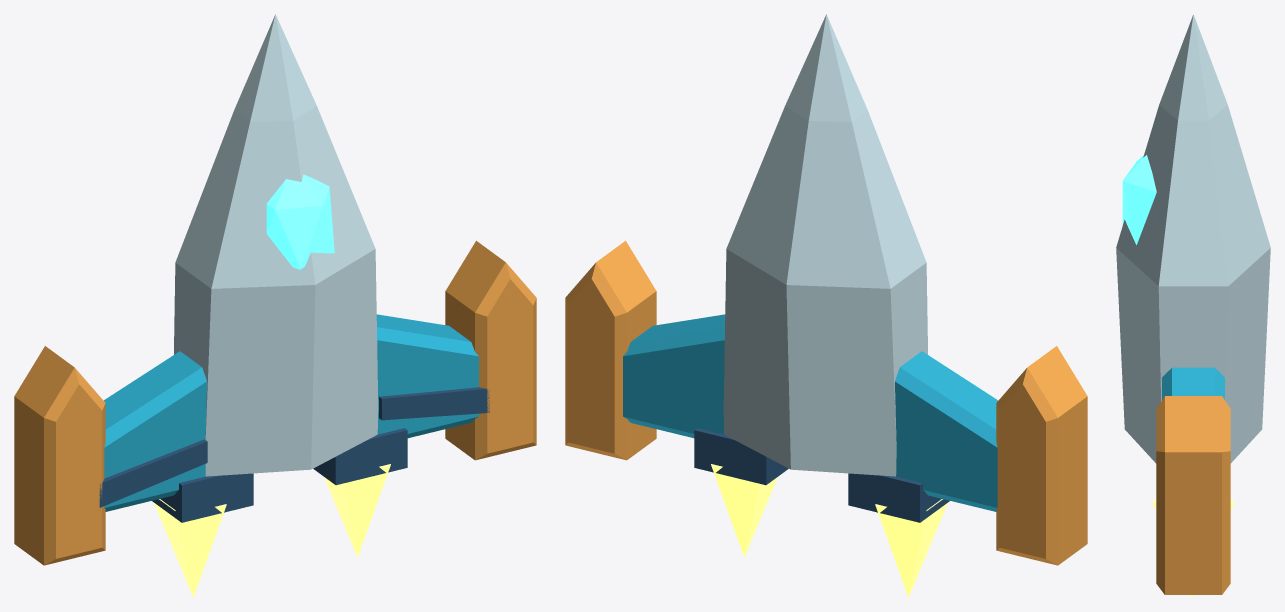
File: player.glb
The picture shows the model from 3 angles, left to right: view 1: azimuth 30°, elevation 25°; view 2: azimuth 150°, elevation 25°; view 3: azimuth 270°, elevation 25°; orthographic projection. The views are drawn at different scales.
Visible parts, largest first — view 1: hull, tip_L, tip_R, wing_L, wing_R, cockpit, flame_L, flame_R; view 2: hull, tip_L, tip_R, wing_L, wing_R, flame_L, flame_R; view 3: hull, tip_R, cockpit, wing_R.
Boxes of the visible parts, x1,y1,x2,y2 form: hull: [152, 14, 407, 522]; tip_L: [14, 346, 105, 565]; tip_R: [445, 240, 536, 460]; wing_L: [99, 351, 207, 511]; wing_R: [376, 314, 489, 438]; cockpit: [266, 174, 334, 269]; flame_L: [154, 499, 226, 597]; flame_R: [324, 464, 390, 557]; hull: [694, 14, 949, 522]; tip_L: [996, 346, 1087, 565]; tip_R: [565, 240, 656, 460]; wing_L: [895, 351, 998, 511]; wing_R: [623, 314, 725, 438]; flame_L: [875, 499, 947, 597]; flame_R: [711, 464, 777, 557]; hull: [1116, 14, 1270, 463]; tip_R: [1156, 396, 1230, 594]; cockpit: [1122, 155, 1156, 244]; wing_R: [1162, 367, 1224, 399].
Size of the model in its own units: 19.2 by 21 by 5.4.
